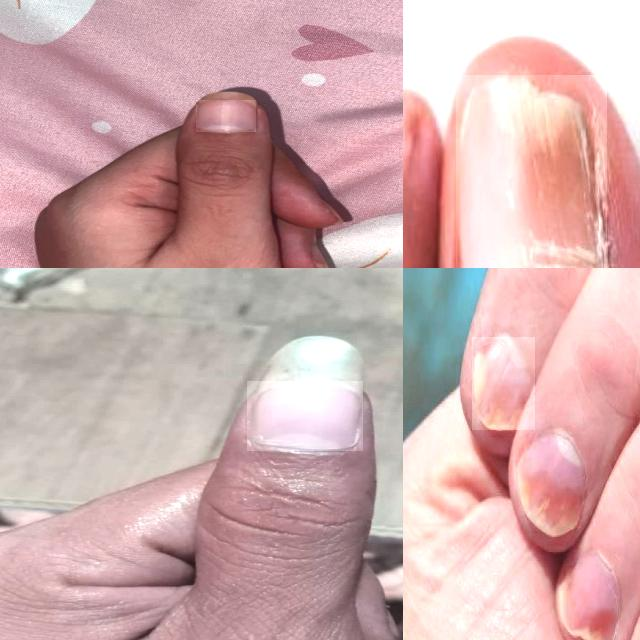diabetes: (457, 75, 606, 268), (516, 432, 585, 538), (473, 338, 535, 430), (560, 555, 619, 640)
sehat: (247, 382, 363, 451), (197, 100, 256, 132)
